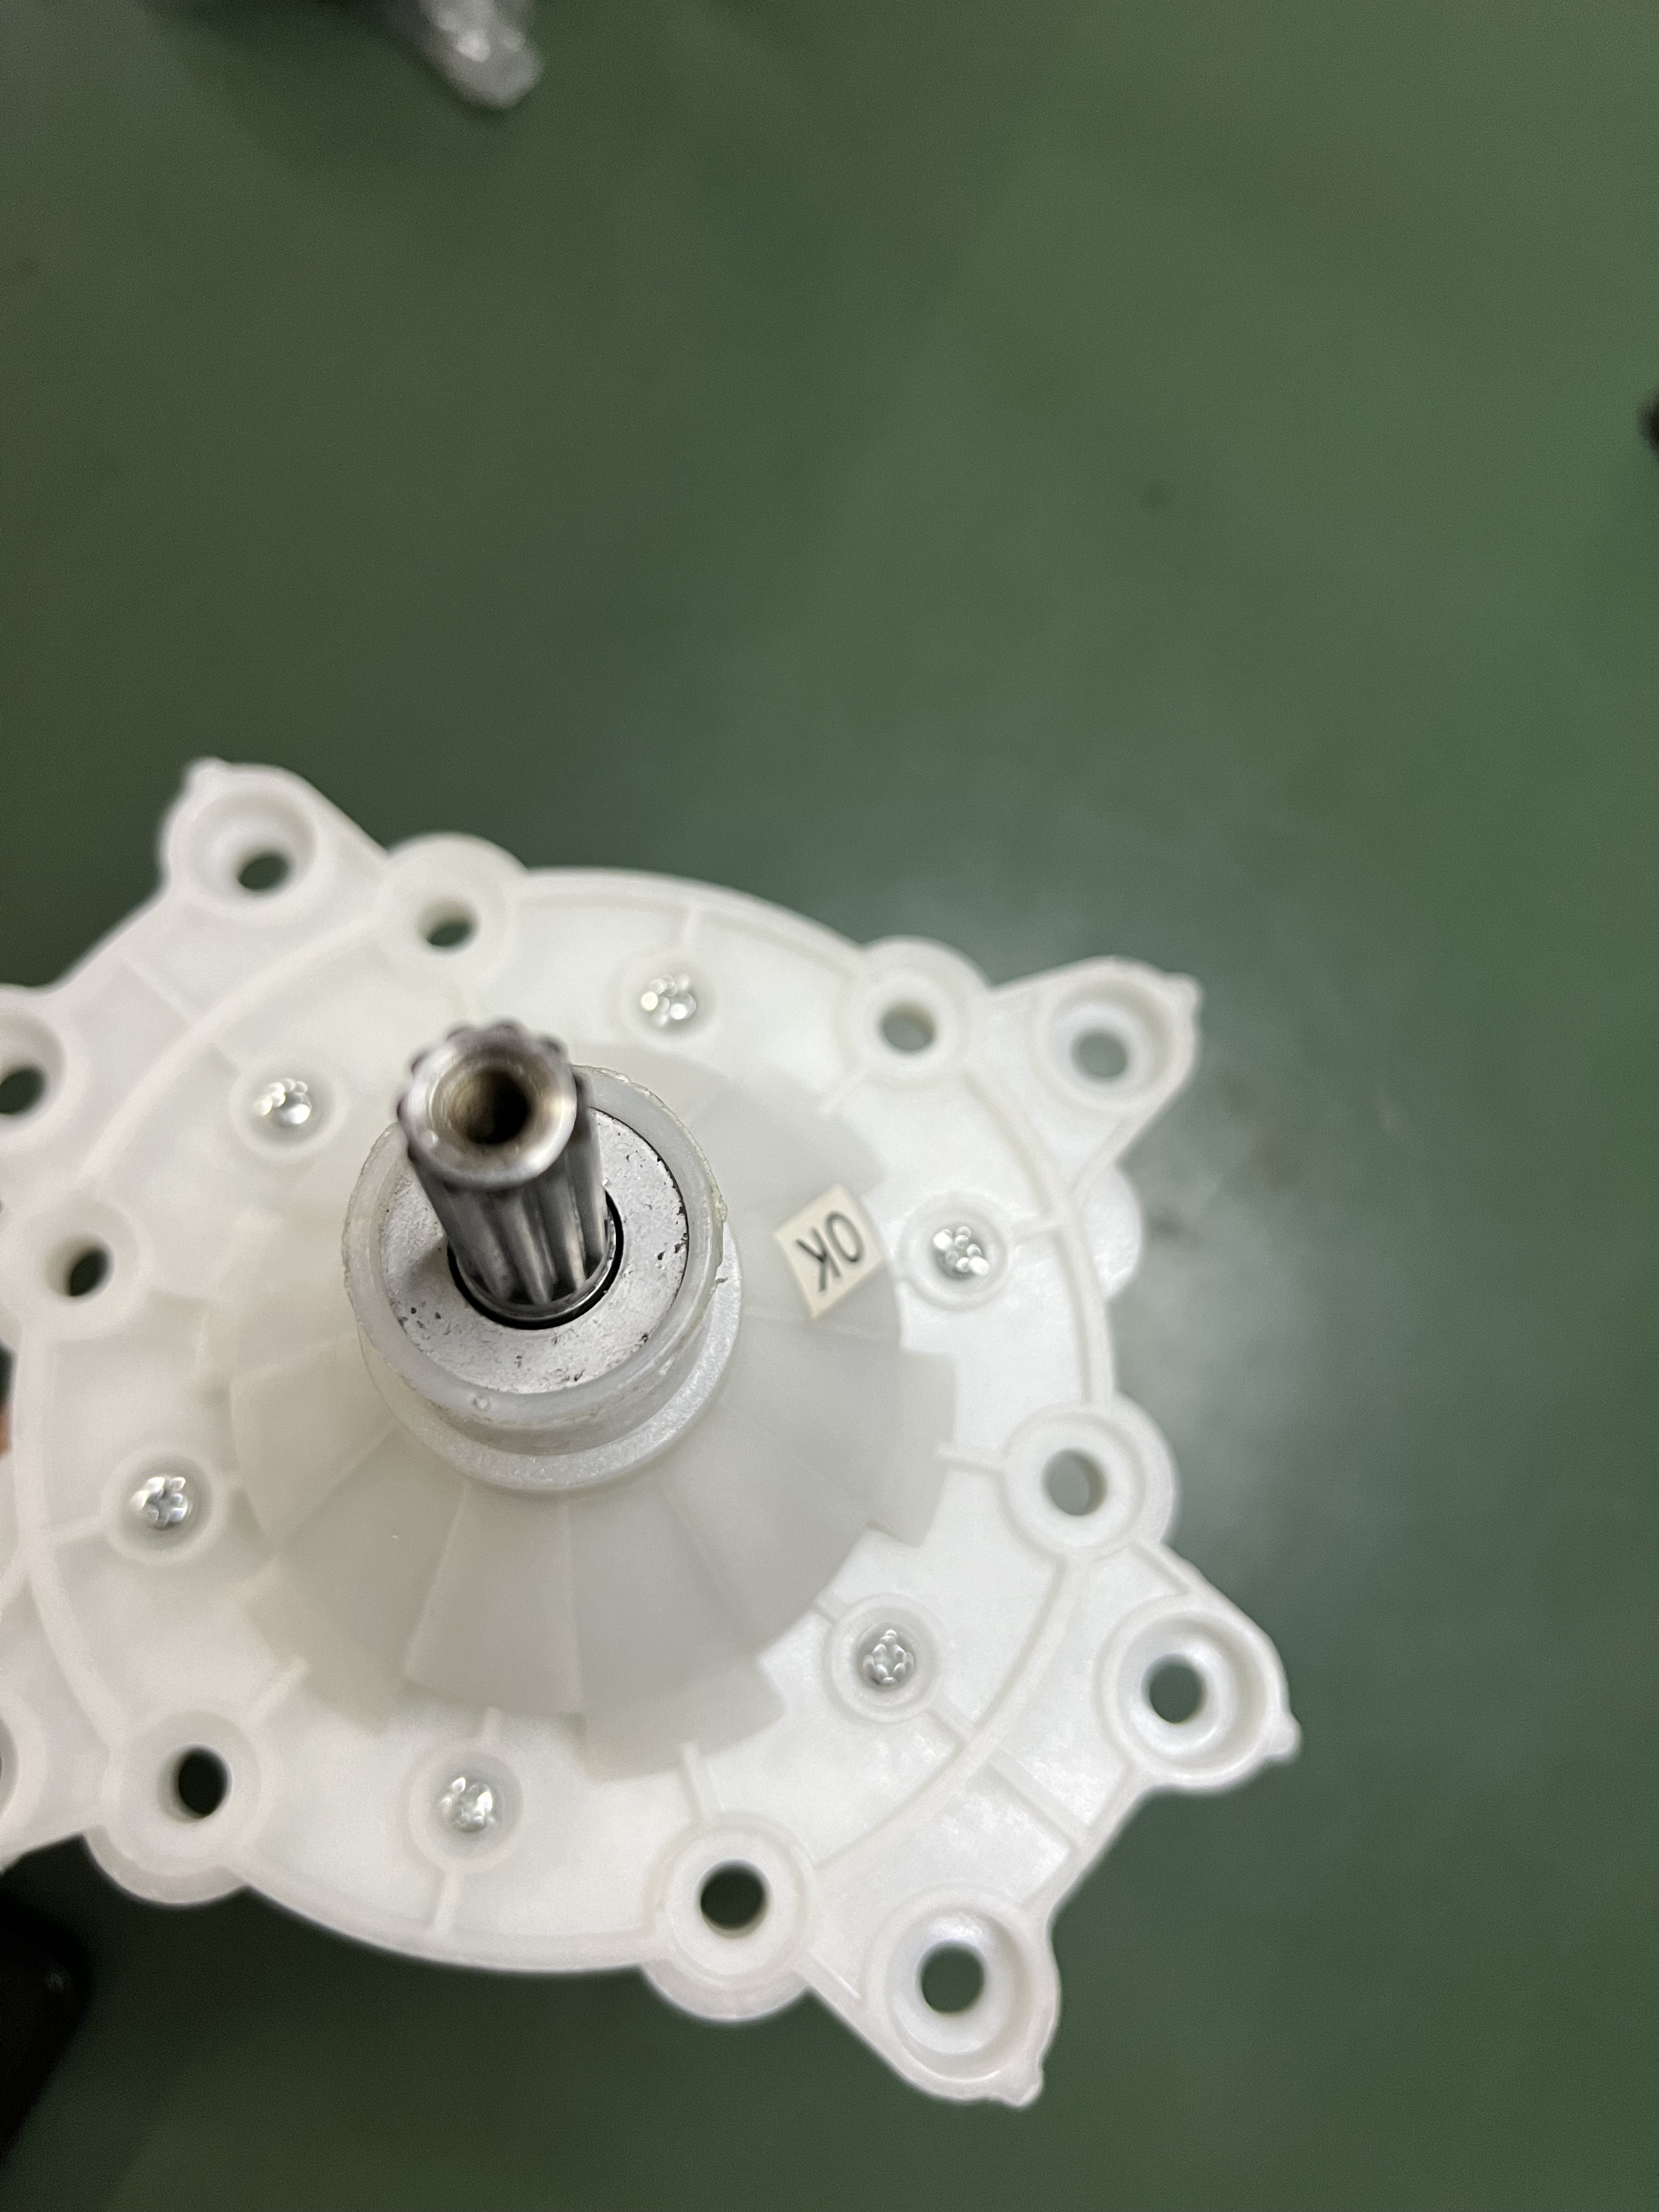gear_box_design: (0, 768, 1358, 2109)
